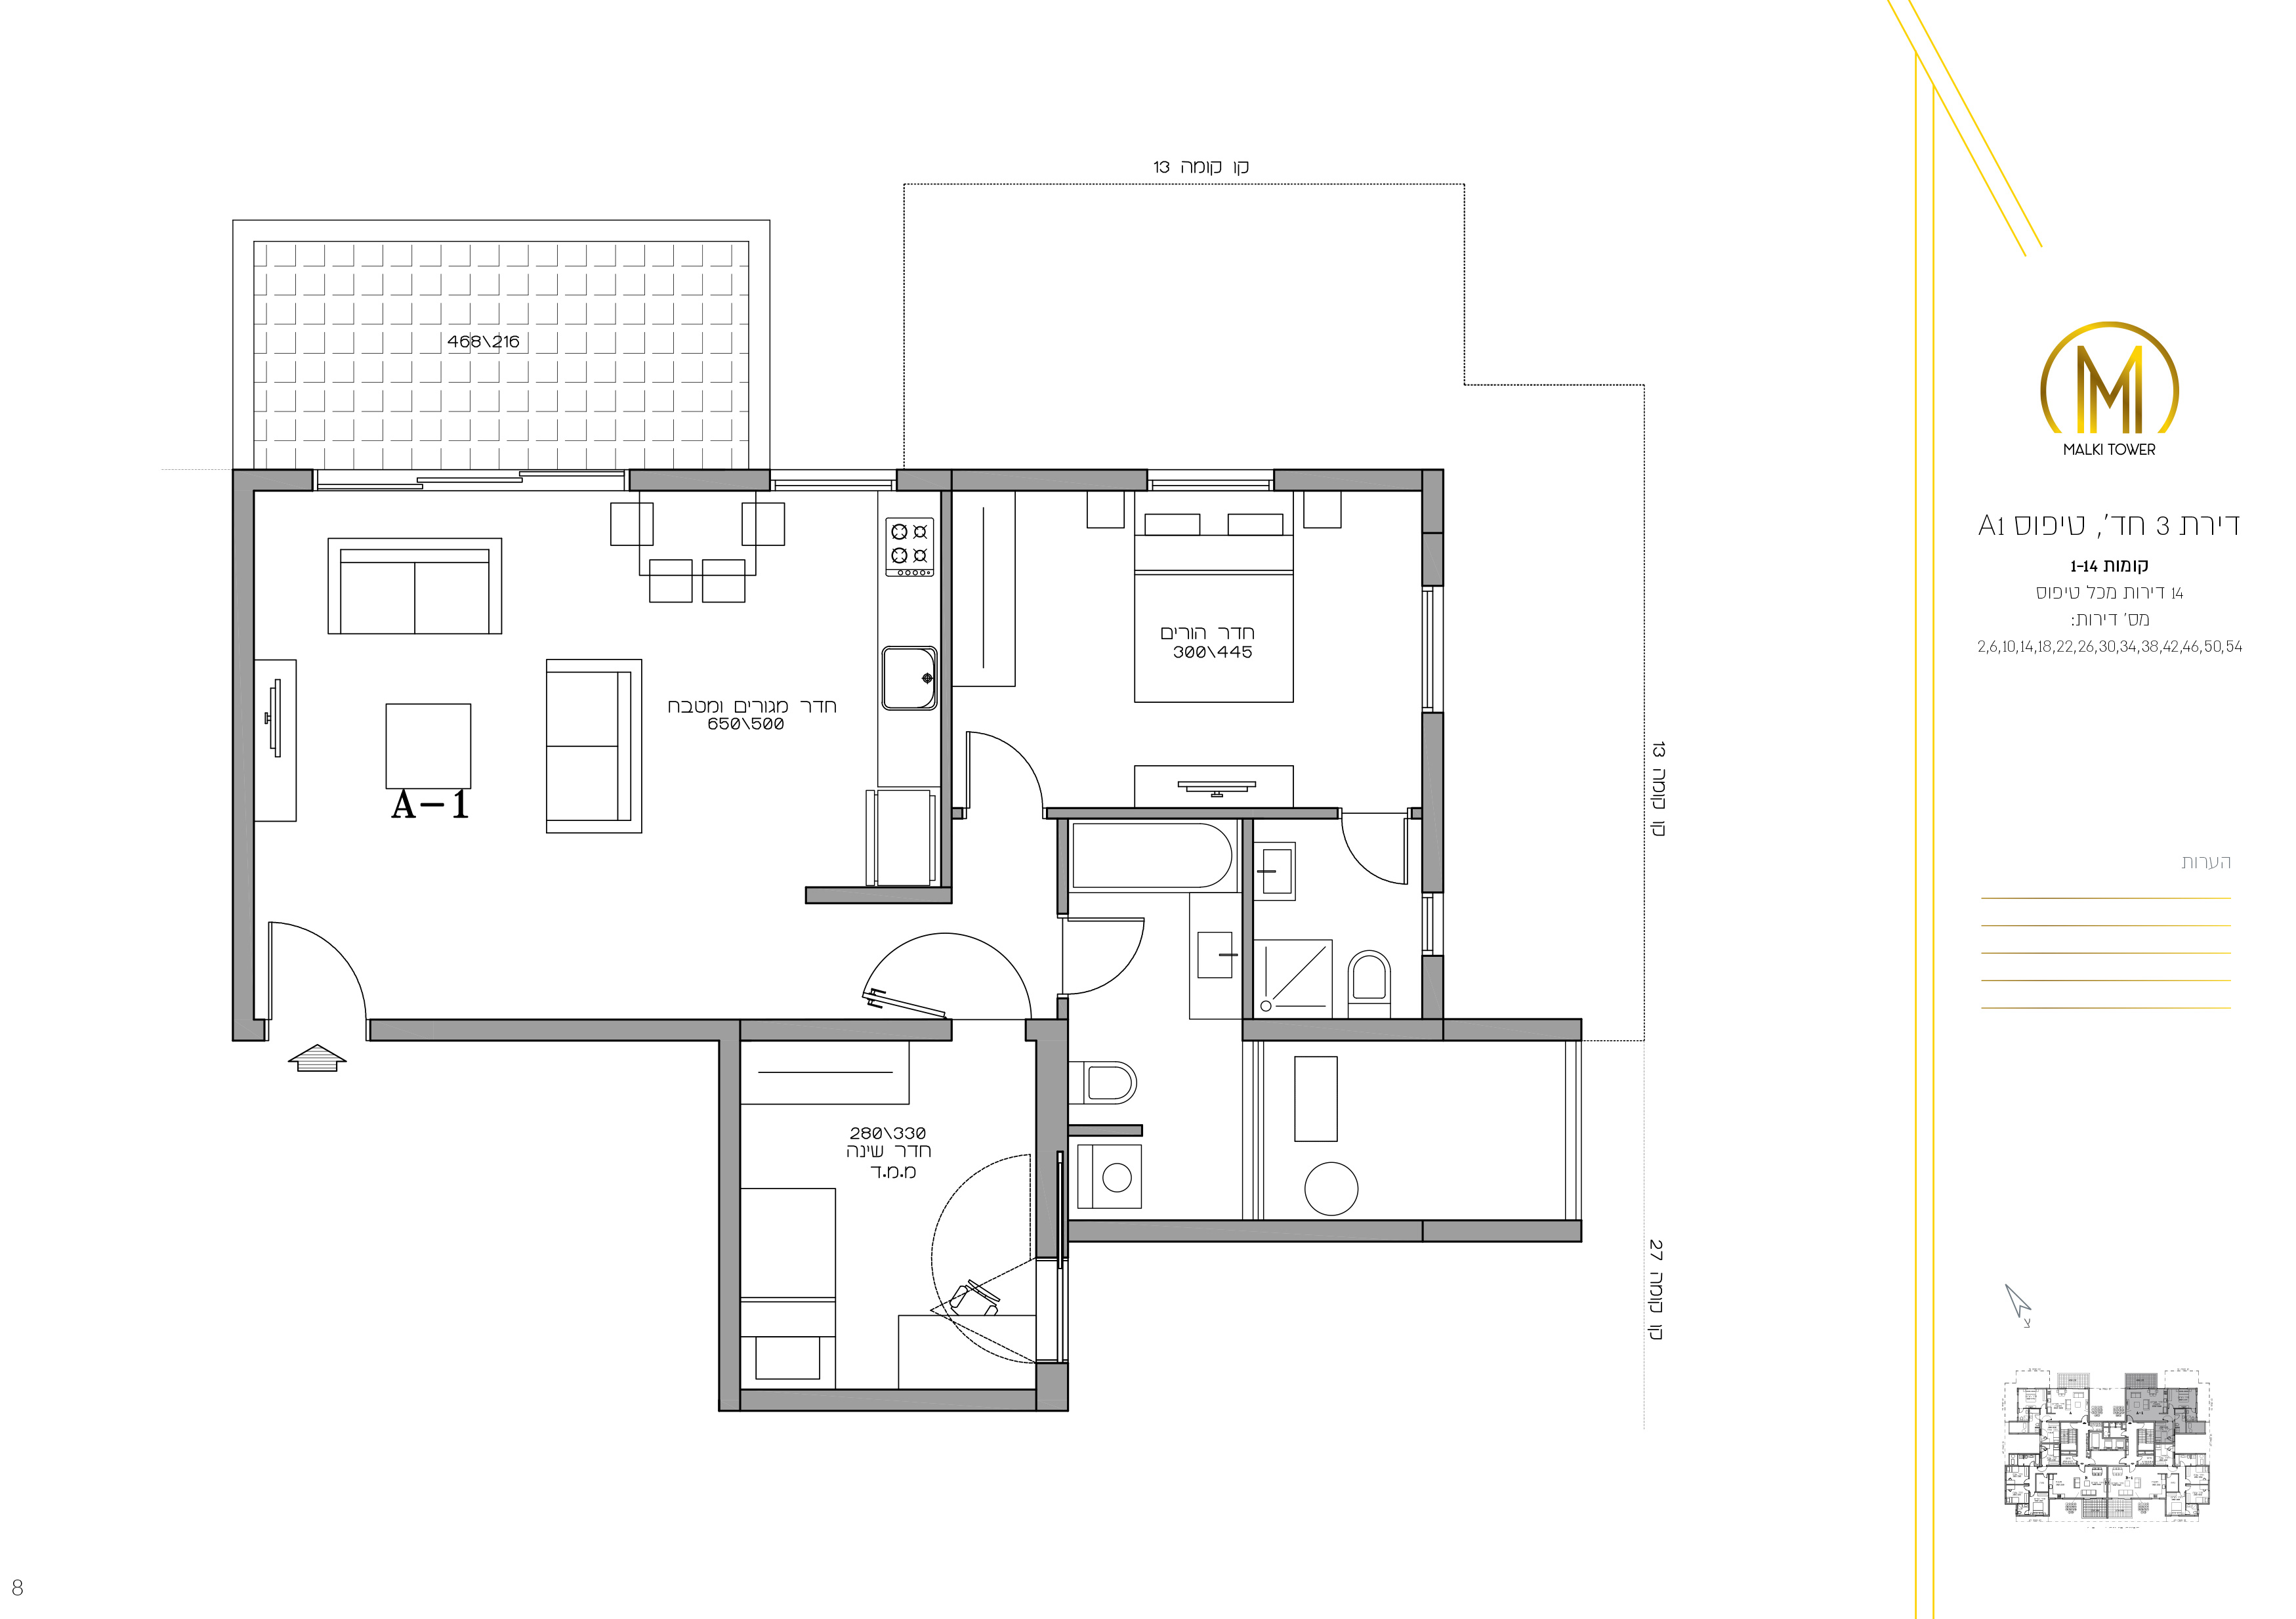door: (261, 915, 371, 1011), (1070, 909, 1163, 999), (1333, 820, 1420, 897), (960, 725, 1047, 801)
wall: (233, 466, 254, 1039), (371, 1018, 741, 1041), (1070, 1218, 1424, 1241), (741, 1389, 1033, 1412), (718, 1039, 736, 1410), (1243, 1018, 1445, 1041), (942, 489, 953, 902)
window: (313, 468, 632, 492), (769, 468, 897, 496), (1149, 470, 1277, 498), (1419, 585, 1445, 715), (1422, 892, 1443, 957)
